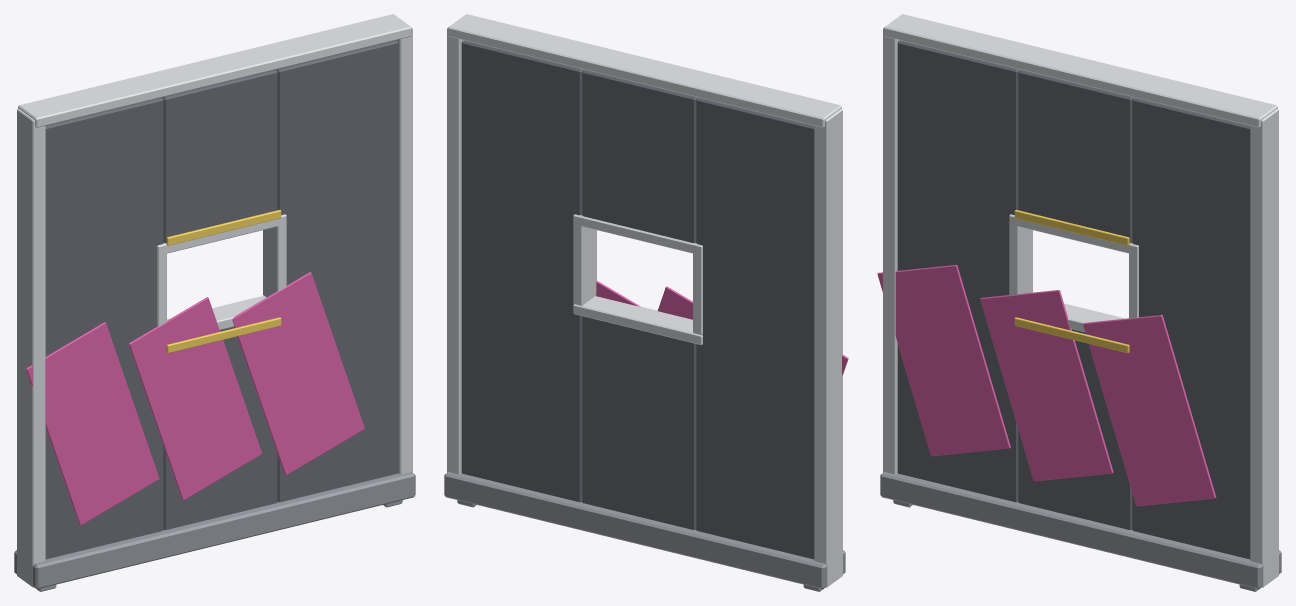
The model's file is laser-tag-arena-and-activity-centre-arena-wall-panel-w-0ddfbbeb__34469.glb.
The picture shows the model from 3 angles, left to right: view 1: azimuth 30°, elevation 25°; view 2: azimuth 150°, elevation 25°; view 3: azimuth 330°, elevation 25°; orthographic projection.
Parts seen in each view (by area): view 1: arena-wall-panel-with-shooting-port; view 2: arena-wall-panel-with-shooting-port; view 3: arena-wall-panel-with-shooting-port.
Boxes of the visible parts, x1,y1,x2,y2 form: arena-wall-panel-with-shooting-port: (14, 14, 415, 591); arena-wall-panel-with-shooting-port: (444, 14, 848, 591); arena-wall-panel-with-shooting-port: (877, 14, 1281, 591).
Bounding box in the file's own units: 2.03 × 2.4 × 0.21.
